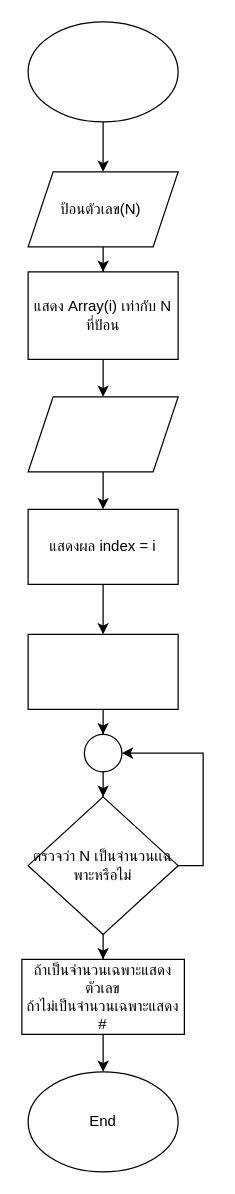
This 235x1194 diagram has some shape labels left out. The shapes that lost their labels are listed below. From the top down, each one's centre as x and y in pixels, then its label:
(102,71): Start
(102,434): ป้อนตัวที่ละตัวตามจำนวน Array
(102,671): แสดงผล Array พร้อมตรวจสอบจำนวนเฉพาะ
